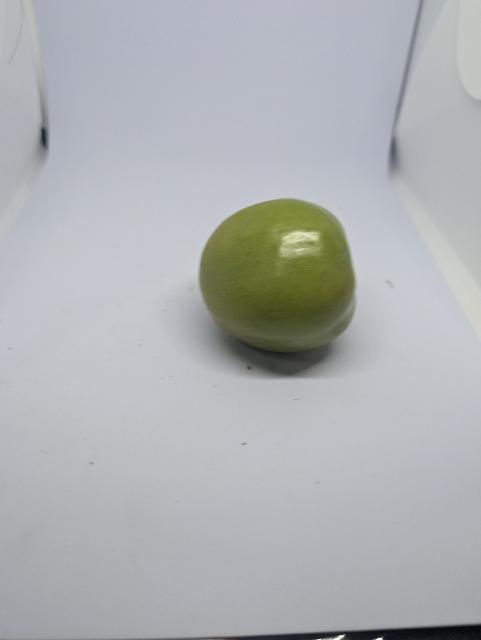green: (182, 189, 373, 359)
